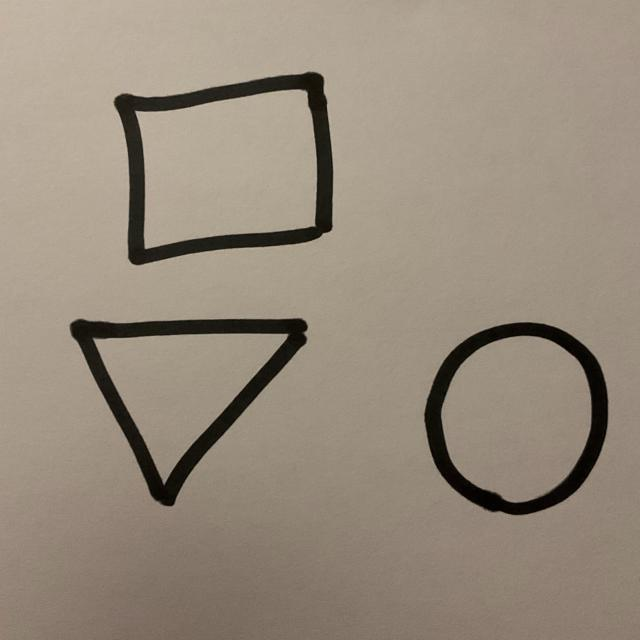Dreieck: (70, 319, 308, 509)
Kreis: (423, 322, 611, 519)
Quadrat: (113, 73, 335, 269)
